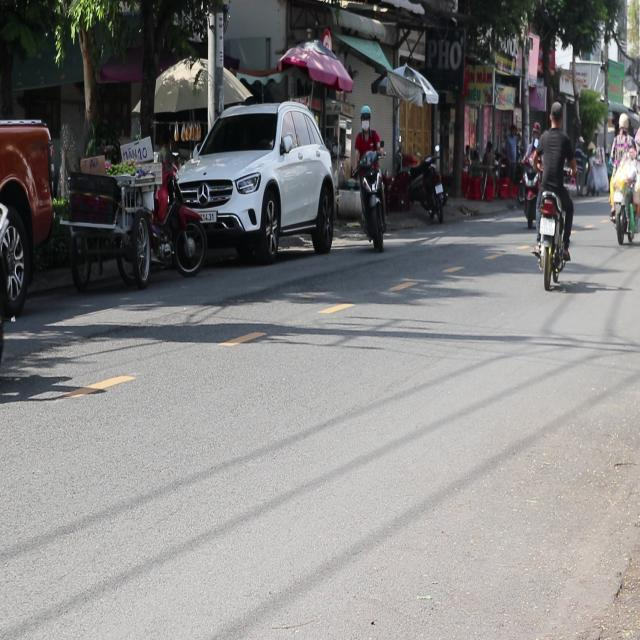helmet: (359, 104, 371, 130)
licenseplate: (532, 99, 575, 286), (352, 103, 388, 250)
motorcyclist: (548, 100, 563, 128)
nohelmet: (540, 217, 554, 235)
